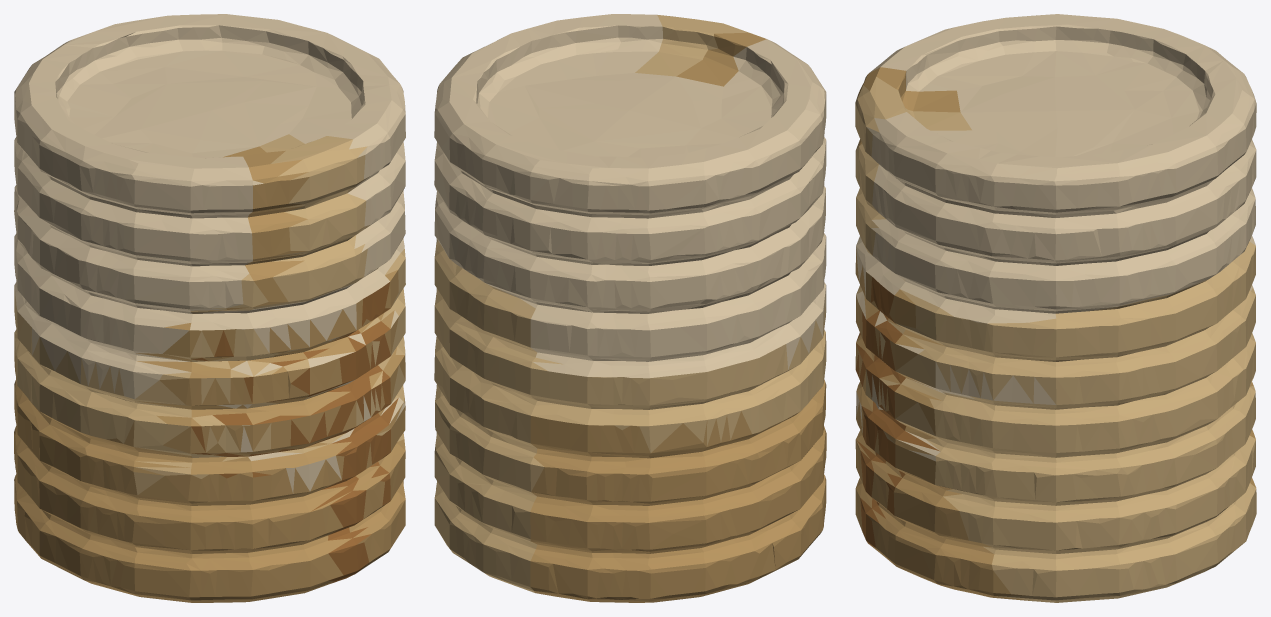
The model's file is coin_stack.glb.
3 renders of one model, left to right at view 1: azimuth 30°, elevation 25°; view 2: azimuth 150°, elevation 25°; view 3: azimuth 270°, elevation 25°, orthographic.
Visible parts, largest first — view 1: geometry_0; view 2: geometry_0; view 3: geometry_0.
Boxes of the visible parts, x1,y1,x2,y2 form: geometry_0: [14, 14, 405, 602]; geometry_0: [434, 14, 826, 602]; geometry_0: [855, 14, 1256, 602].
Size of the model in its own units: 1.63 by 1.99 by 1.66.
